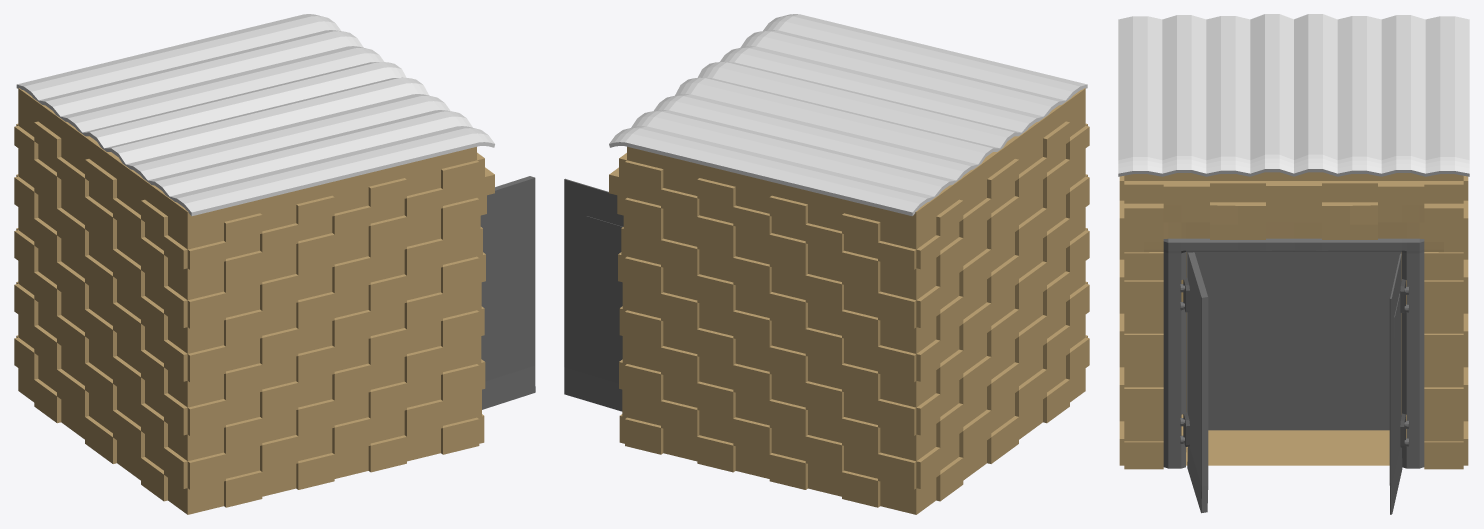
The model's file is garaz 3.fbx.
3 renders of one model, left to right at view 1: azimuth 30°, elevation 25°; view 2: azimuth 150°, elevation 25°; view 3: azimuth 270°, elevation 25°, orthographic.
Parts seen in each view (by area): view 1: Cube.004, Cube.003, Cube.011; view 2: Cube.004, Cube.003, Cube.012; view 3: Cube.004, Cube.003, Cube.011, Cube.012, Cube.002.
Boxes of the visible parts, bbox=[...] form: Cube.004: bbox=[14, 88, 494, 514]; Cube.003: bbox=[16, 14, 494, 216]; Cube.011: bbox=[480, 176, 535, 409]; Cube.004: bbox=[609, 88, 1089, 514]; Cube.003: bbox=[609, 14, 1087, 216]; Cube.012: bbox=[564, 178, 623, 411]; Cube.004: bbox=[1119, 172, 1468, 469]; Cube.003: bbox=[1118, 14, 1469, 176]; Cube.011: bbox=[1187, 252, 1208, 513]; Cube.012: bbox=[1389, 253, 1402, 514]; Cube.002: bbox=[1183, 277, 1189, 446].
Bounding box in the file's own units: 271 × 205 × 210.
